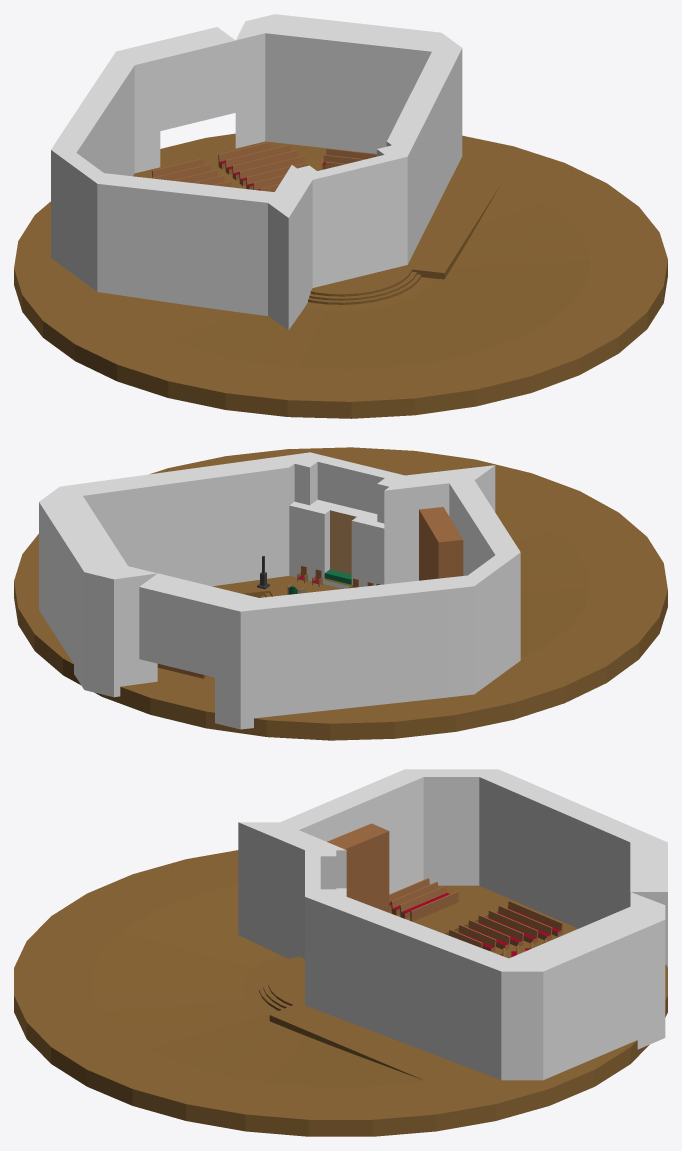
File: sc_c_inside5.glb
3 views of the same model, one above another, from view 1: azimuth 30°, elevation 25°; view 2: azimuth 150°, elevation 25°; view 3: azimuth 270°, elevation 25° (orthographic).
Visible parts, largest first — view 1: wall, floor, stage.001, sheet, sheet.002; view 2: wall, floor, pipe.004, stage.001; view 3: wall, floor, stage.001, pipe.004, sheet.002, stage, sheet.001, miniwall.001.
Boxes of the visible parts, x1,y1,x2,y2 form: wall: [51, 14, 462, 330]; floor: [14, 133, 667, 418]; stage.001: [404, 162, 510, 279]; sheet: [151, 142, 307, 191]; sheet.002: [322, 148, 376, 169]; wall: [39, 452, 520, 729]; floor: [14, 447, 667, 740]; pipe.004: [419, 507, 463, 580]; stage.001: [212, 578, 316, 597]; wall: [238, 769, 667, 1080]; floor: [14, 850, 667, 1136]; stage.001: [269, 1000, 489, 1091]; pipe.004: [327, 823, 389, 912]; sheet.002: [448, 900, 562, 952]; stage: [389, 885, 517, 935]; sheet.001: [389, 878, 449, 918]; miniwall.001: [410, 891, 458, 921].
Bounding box in the file's own units: 41.88 × 9.69 × 41.88.
